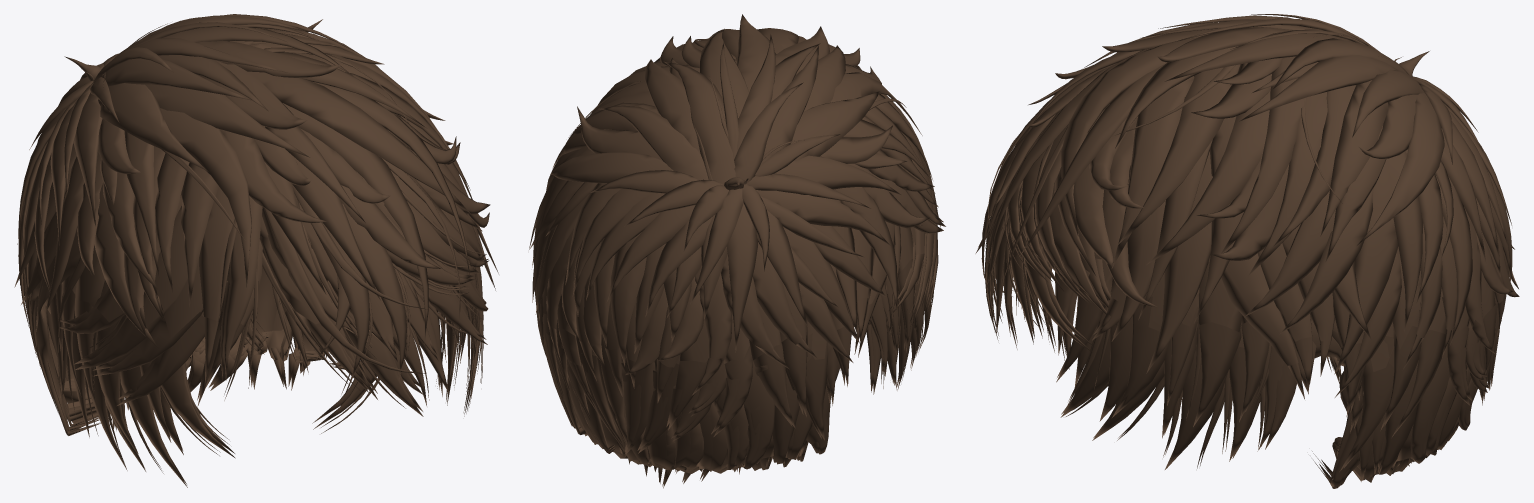
Rendered from boy.glb.
The picture shows the model from 3 angles, left to right: view 1: azimuth 30°, elevation 25°; view 2: azimuth 150°, elevation 25°; view 3: azimuth 270°, elevation 25°; orthographic projection. The views are drawn at different scales.
Visible parts, largest first — view 1: boy / supplied hairstyle; view 2: boy / supplied hairstyle; view 3: boy / supplied hairstyle.
Part boxes in pixels (x1=…): boy / supplied hairstyle: x1=14, y1=14, x2=498, y2=487; boy / supplied hairstyle: x1=529, y1=14, x2=945, y2=488; boy / supplied hairstyle: x1=975, y1=14, x2=1519, y2=488.
Size of the model in its own units: 0.2627 by 0.2803 by 0.3275.
